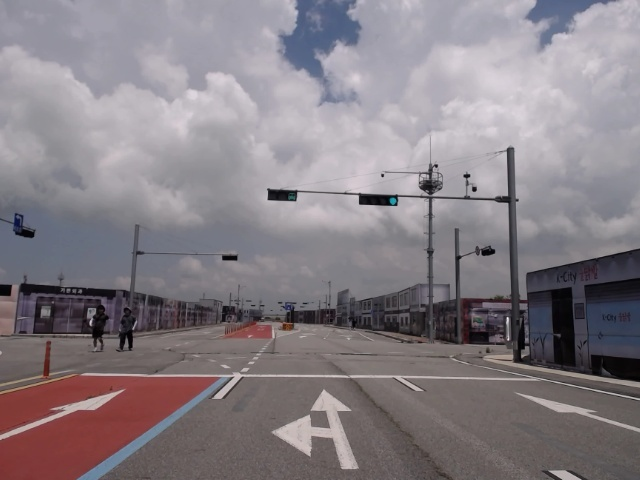straight_green_4: (360, 193, 400, 206)
